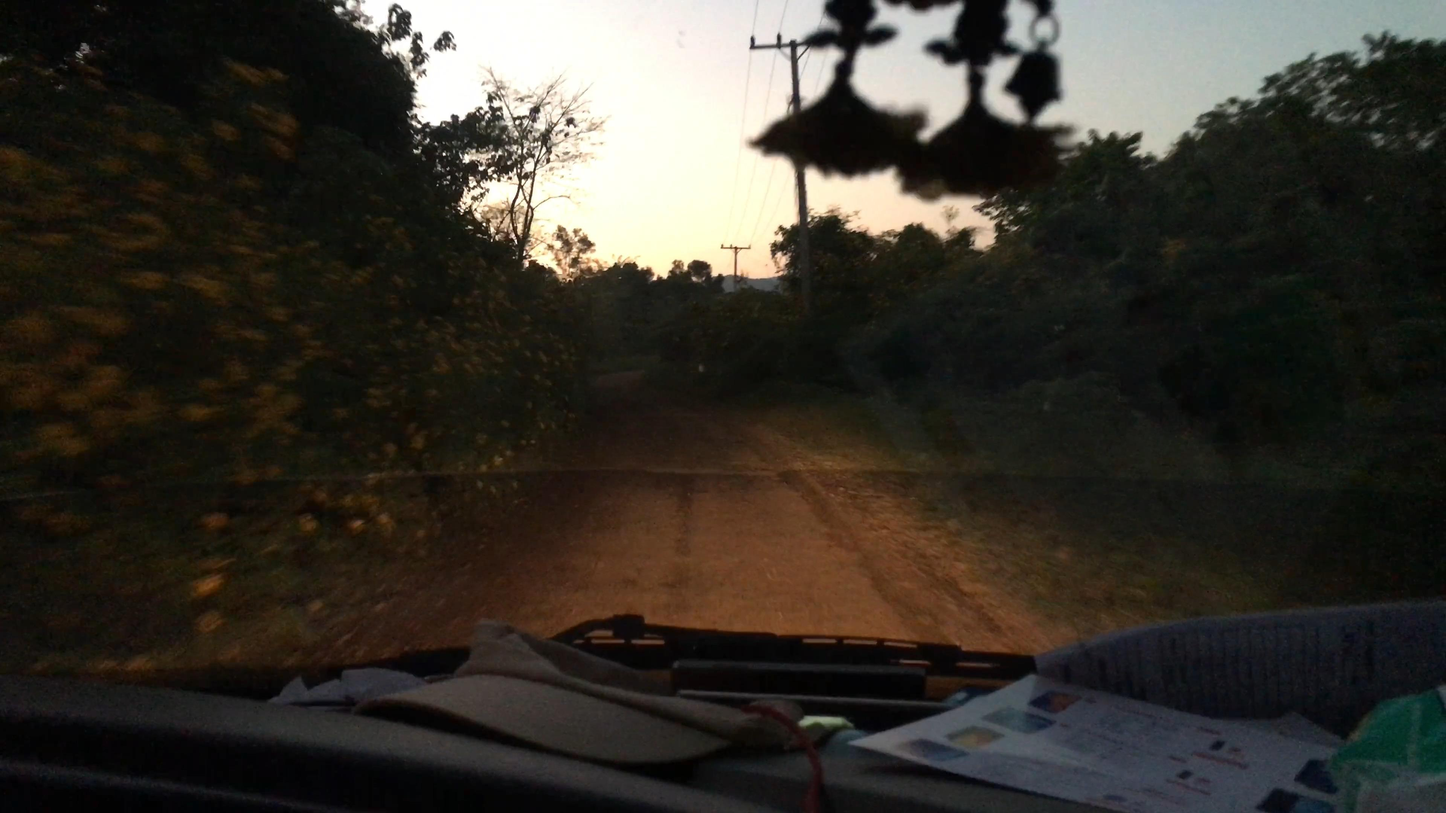dry: (319, 371, 1099, 666)
